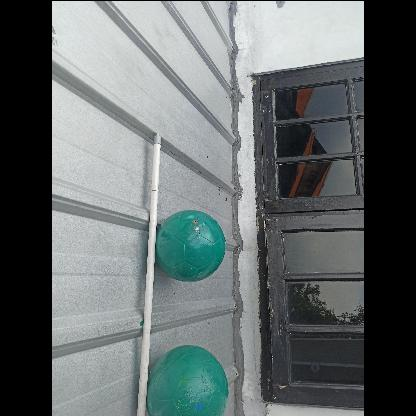green_ball: (145, 346, 235, 416), (154, 208, 226, 280)
